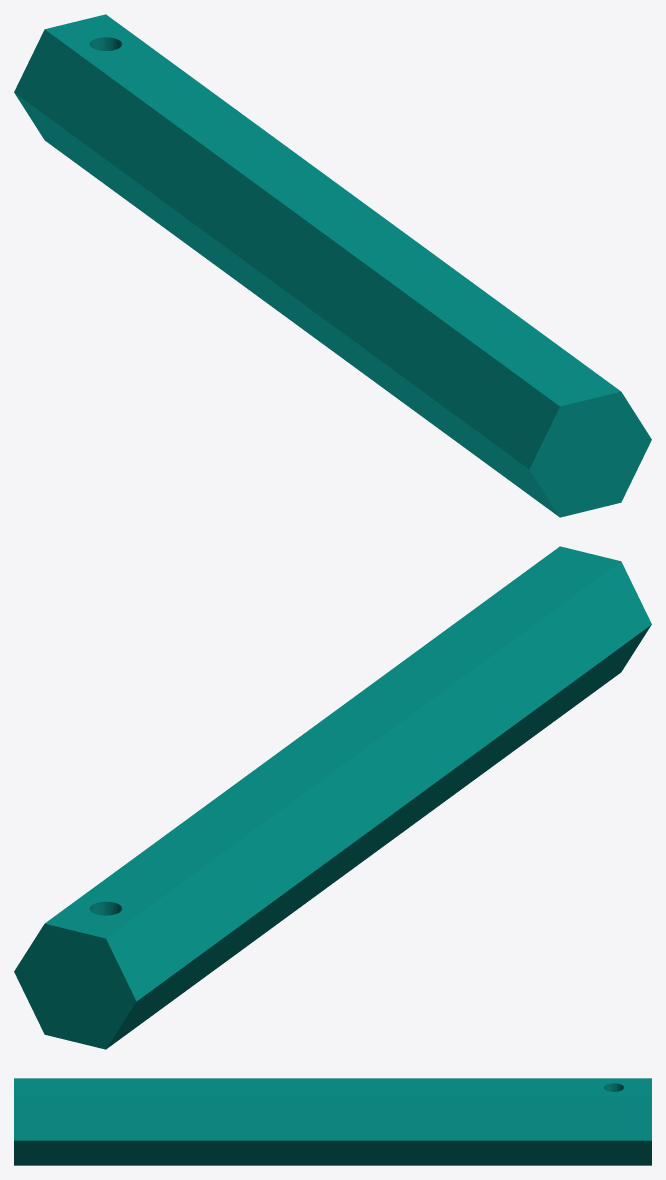
The model's file is ali_eje_pinon.glb.
3 renders of one model, top to bottom at view 1: azimuth 30°, elevation 25°; view 2: azimuth 150°, elevation 25°; view 3: azimuth 270°, elevation 25°, orthographic. The views are drawn at different scales.
Visible parts, largest first — view 1: world; view 2: world; view 3: world.
Boxes of the visible parts, x1,y1,x2,y2 form: world: (14, 14, 651, 517); world: (14, 546, 651, 1049); world: (14, 1078, 651, 1165).
Bounding box in the file's own units: 13.86 × 12 × 101.
